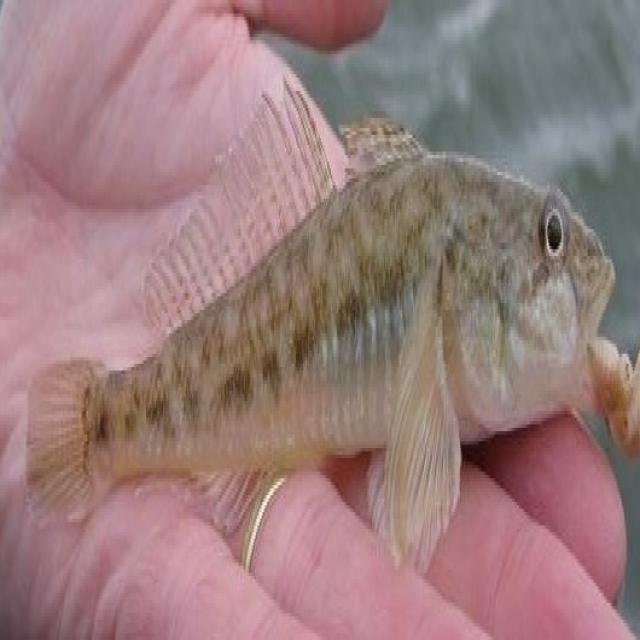Goby: (12, 50, 635, 610)
